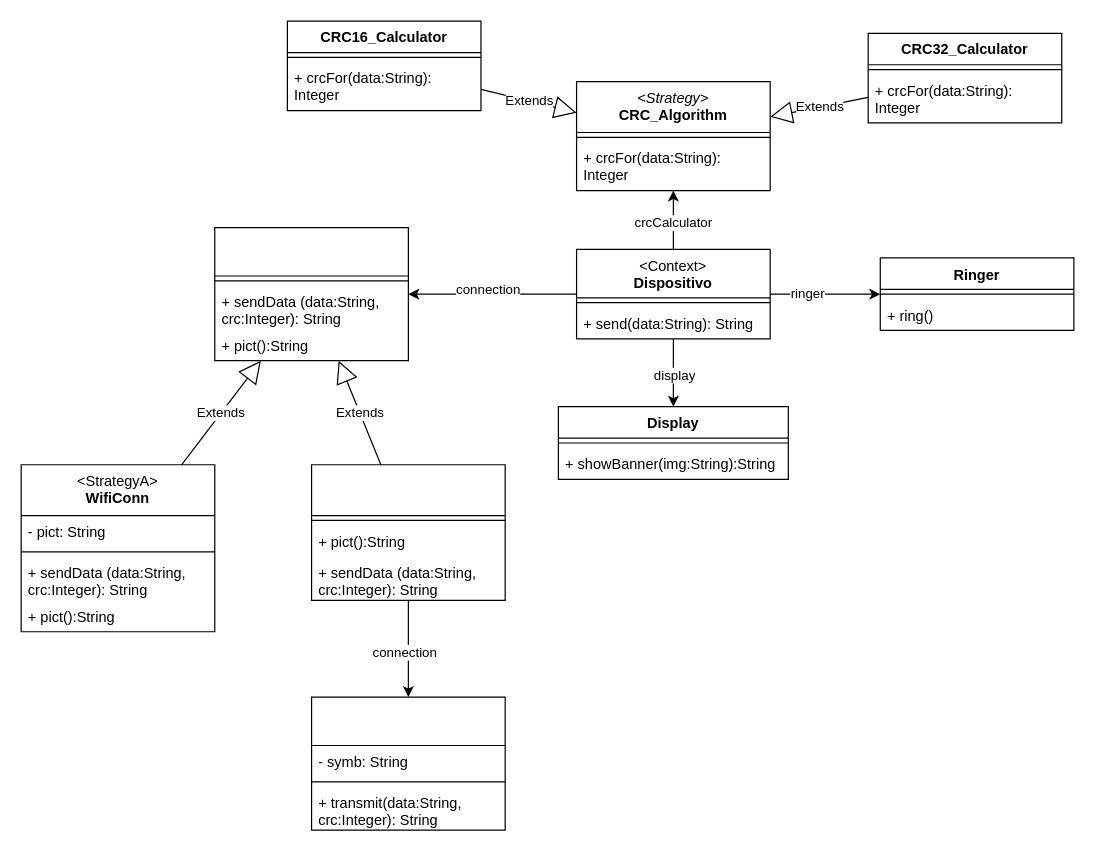
Image size: 1095x855. Some labels were removed from this diagram. Each missing label, with the box of its shape:
<Adaptee> 4GConnection: (310, 696, 505, 830)
<Strategy> Connection: (214, 226, 408, 361)
<StrategyB><Adapter> 4GConnectionAdapter: (310, 464, 505, 600)
